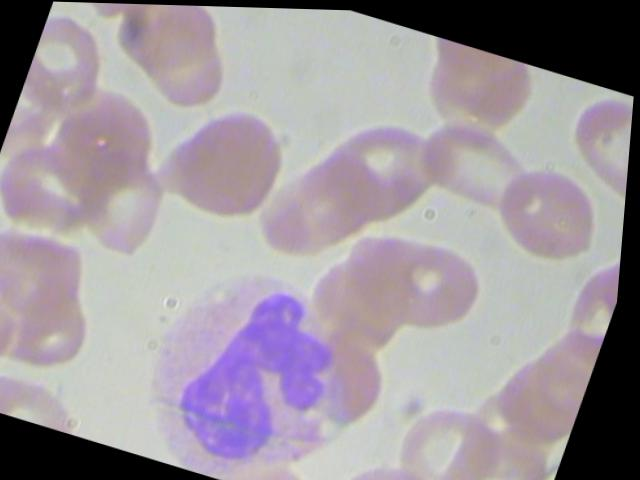Red Blood Cells: (149, 89, 305, 231), (400, 102, 554, 219), (488, 150, 616, 268), (555, 80, 635, 203), (344, 447, 465, 479)
White Blood Cells: (116, 239, 410, 479)
